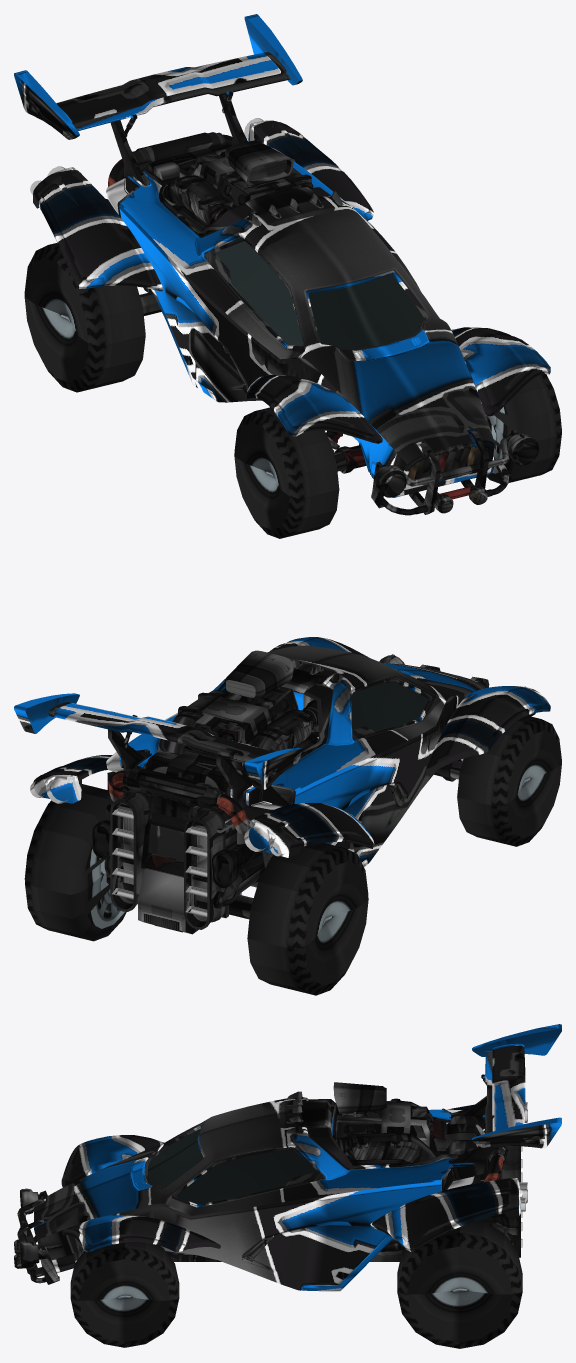
The model's file is kart.glb.
3 views of the same model, one above another, from view 1: azimuth 30°, elevation 25°; view 2: azimuth 150°, elevation 25°; view 3: azimuth 270°, elevation 25° (orthographic). The views are drawn at different scales.
Parts seen in each view (by area): view 1: body_0, body_1, wheel-rear-left, wheel-front-left, body_9, wheel-front-right, body_5; view 2: body_0, body_1, wheel-rear-left, wheel-rear-right, wheel-front-left, body_9, body_4, body_5; view 3: body_0, body_1, wheel-rear-right, wheel-front-right, body_9, body_5.
Boxes of the visible parts, x1,y1,x2,y2 form: body_0: [14, 14, 550, 497]; body_1: [105, 91, 539, 515]; wheel-rear-left: [24, 243, 145, 392]; wheel-front-left: [234, 407, 339, 538]; body_9: [215, 241, 424, 349]; wheel-front-right: [473, 374, 561, 483]; body_5: [30, 118, 283, 214]; body_0: [14, 637, 550, 866]; body_1: [92, 650, 535, 934]; wheel-rear-left: [247, 843, 368, 995]; wheel-rear-right: [24, 784, 126, 941]; wheel-front-left: [457, 715, 561, 846]; body_9: [352, 682, 428, 731]; body_4: [112, 808, 207, 917]; body_5: [30, 752, 284, 856]; body_0: [34, 1024, 561, 1291]; body_1: [14, 1074, 520, 1284]; wheel-rear-right: [397, 1220, 522, 1348]; wheel-front-right: [70, 1242, 179, 1347]; body_9: [147, 1129, 317, 1204]; body_5: [446, 1100, 527, 1211].
Bounding box in the file's own units: 0.7247 × 0.7473 × 1.4.
6 materials, 6 textured.
